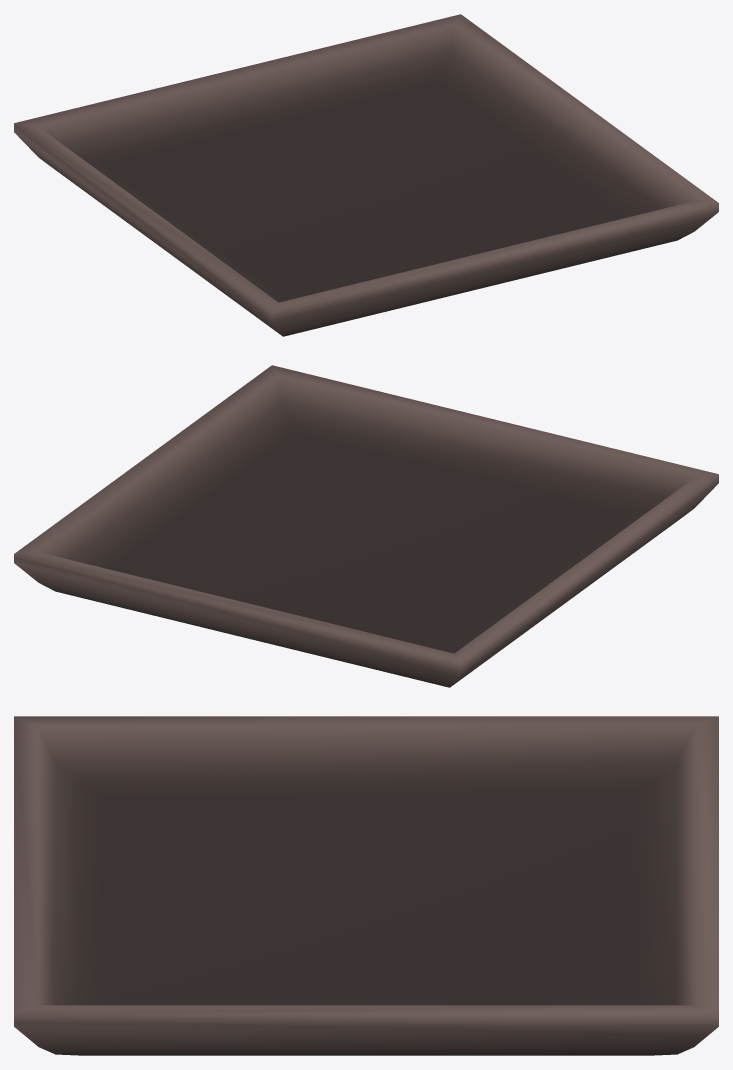
File: plate.gltf
The picture shows the model from 3 angles, top to bottom: view 1: azimuth 30°, elevation 25°; view 2: azimuth 150°, elevation 25°; view 3: azimuth 270°, elevation 25°; orthographic projection. The views are drawn at different scales.
Visible parts, largest first — view 1: testPlate; view 2: testPlate; view 3: testPlate.
Part boxes in pixels (left/top/right/bottom): testPlate: left=14, top=14, right=718, bottom=336; testPlate: left=14, top=365, right=718, bottom=687; testPlate: left=14, top=716, right=718, bottom=1055.
Bounding box in the file's own units: 1 × 0.1132 × 1.
